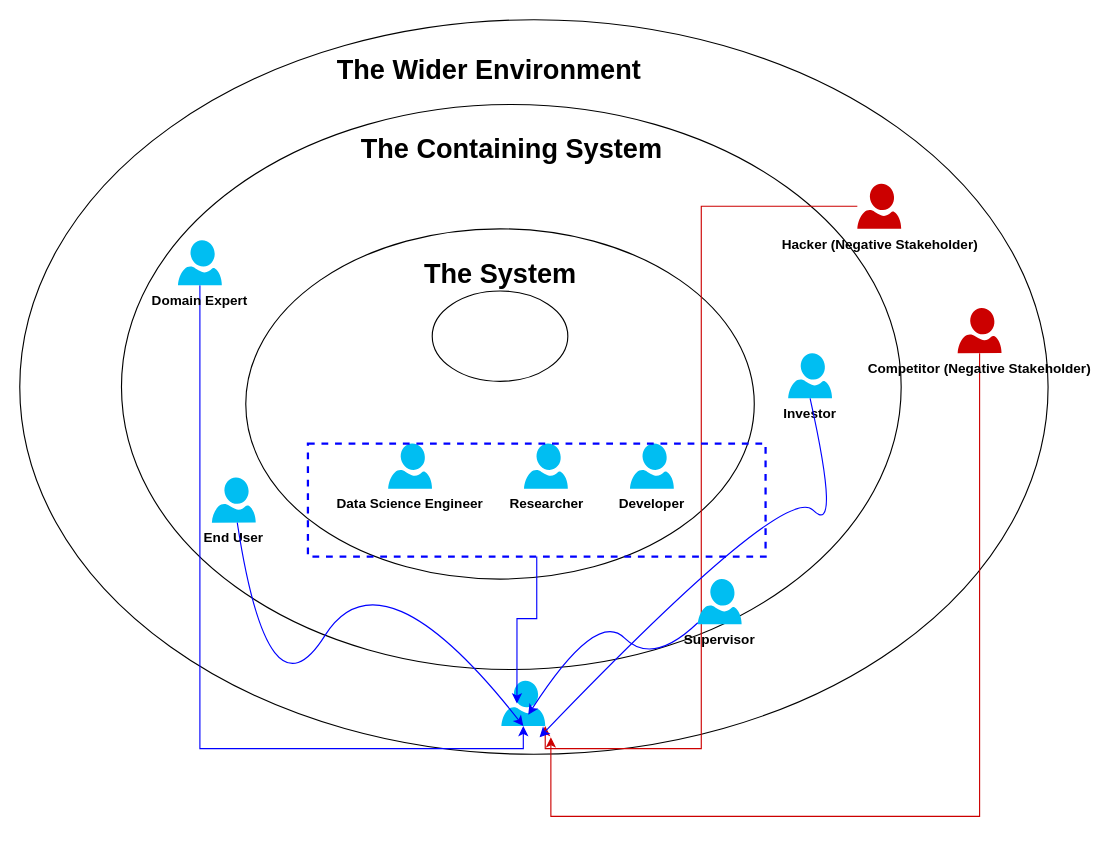
Image size: 1111x845. Some labels were removed from this diagram. The shapes that lost their labels are listed below. From the top down, each one's box as (x1, y1, x2, y2) in pixels, then its label:
(431, 290, 568, 381): RealGym
(501, 680, 545, 725): Product Developer
